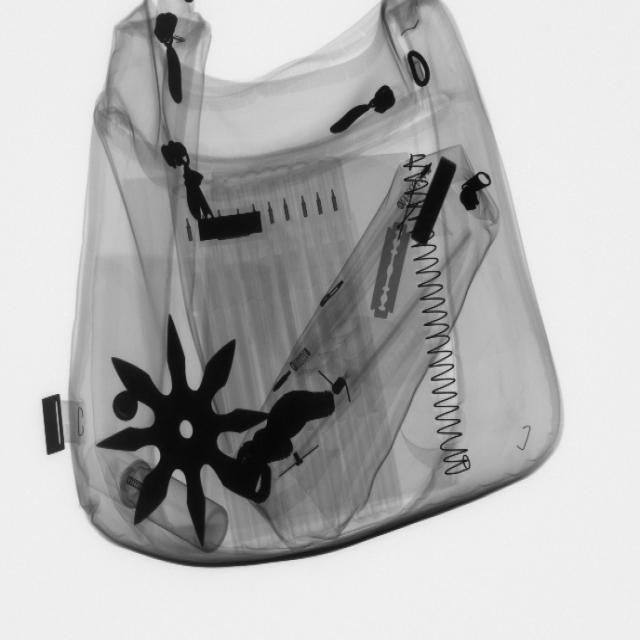BLADE: (369, 217, 414, 324)
SHURIKEN: (95, 314, 276, 549)
